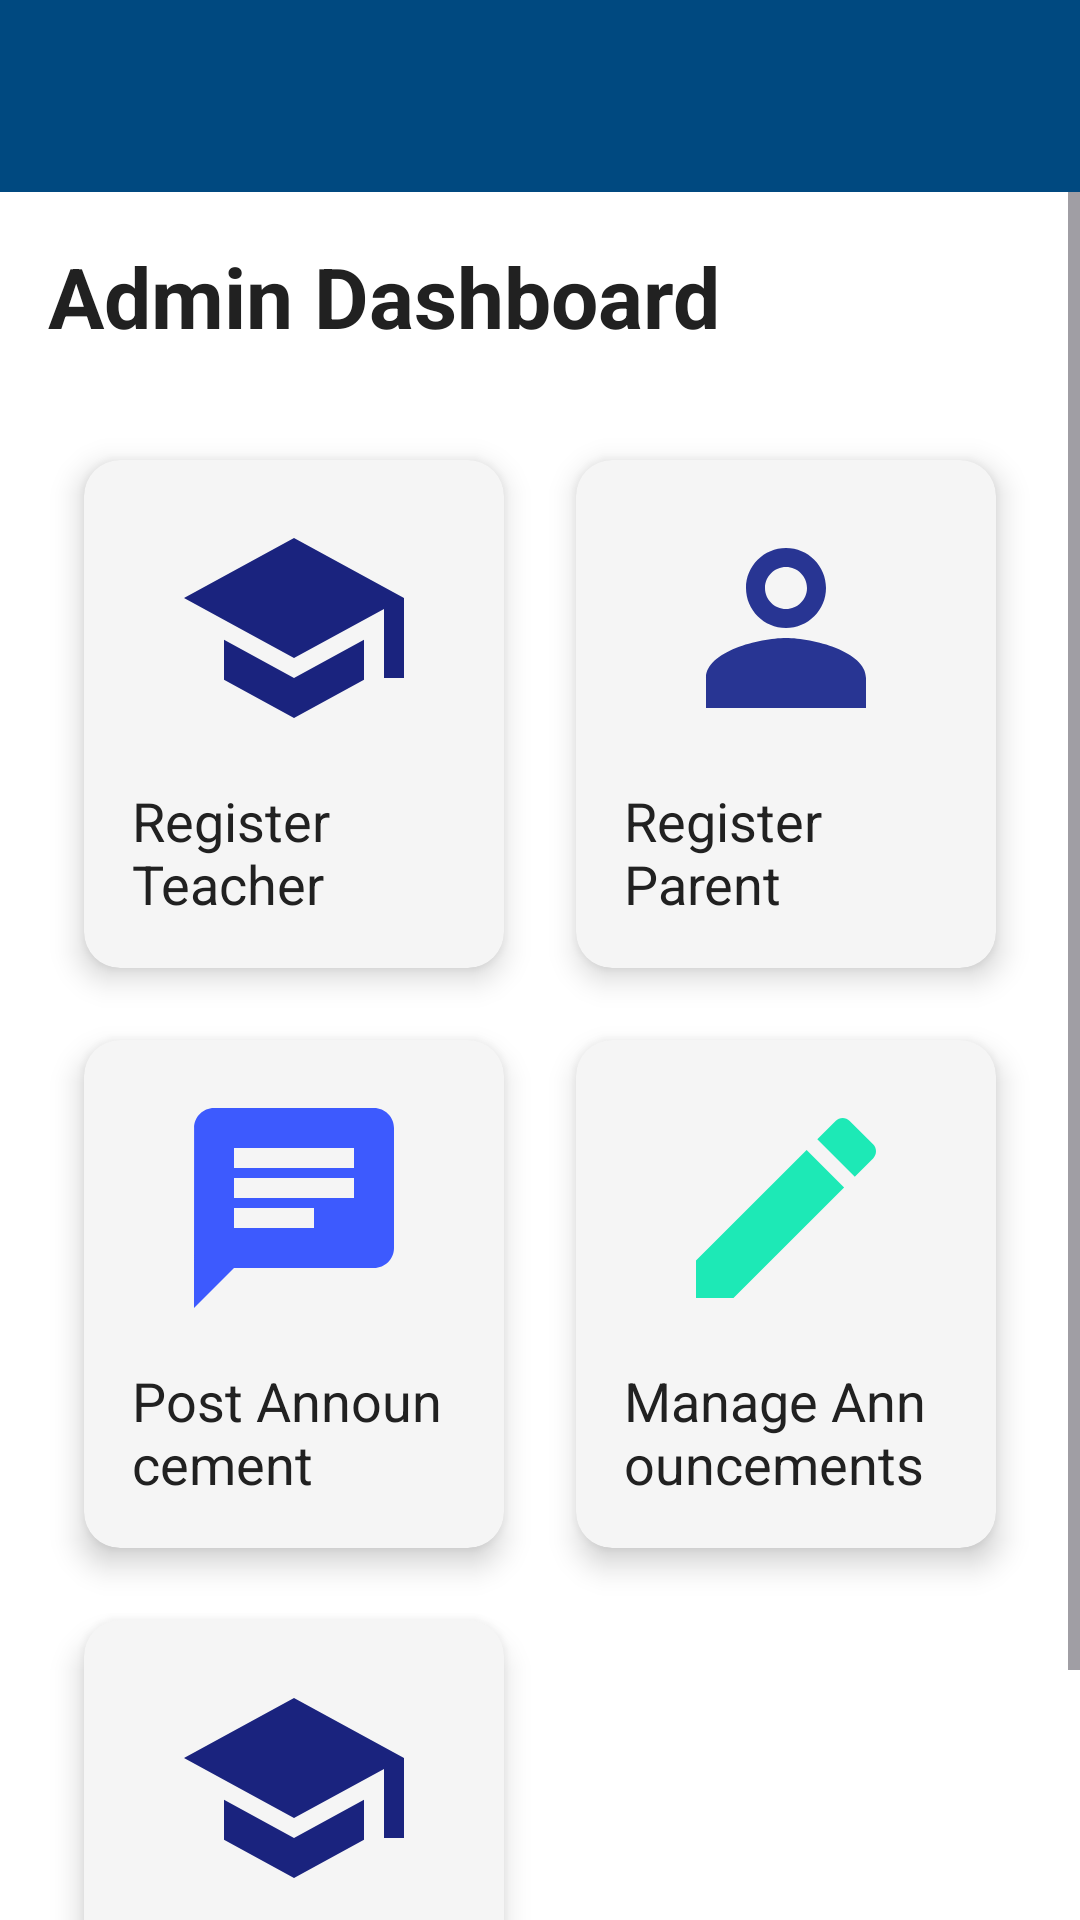

Icon click points for this 1080px×1920px phone screenshot, format point (x, y):
edit announcement: point (786, 1208)
